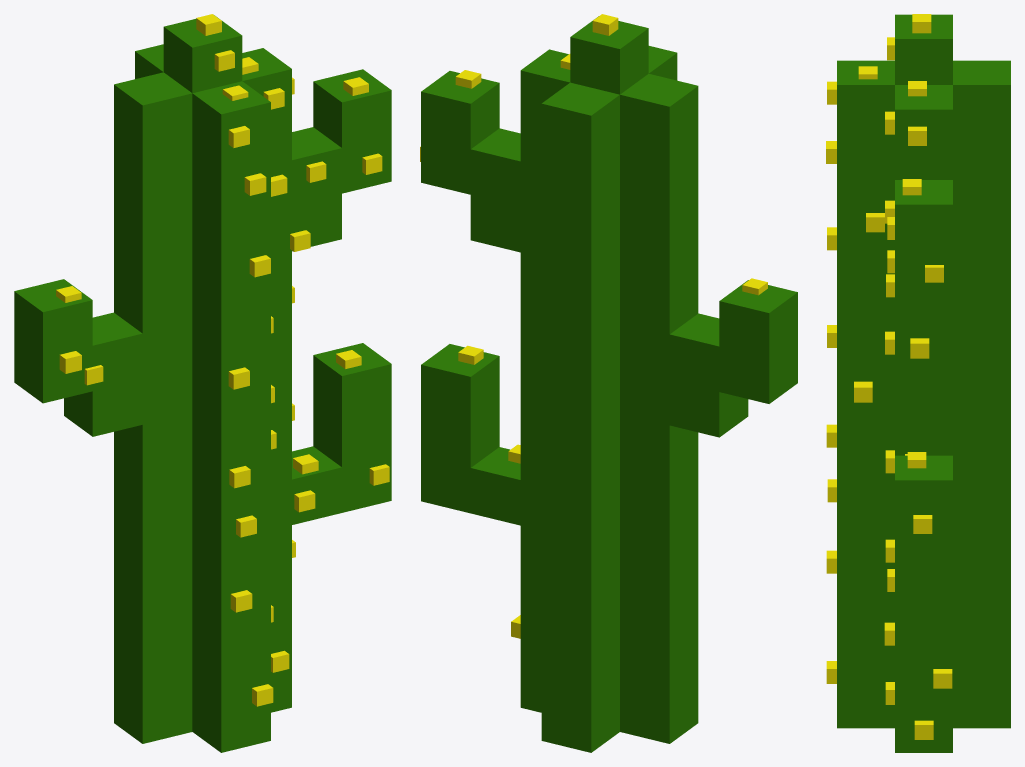
Rendered from cactus_2.fbx.
The picture shows the model from 3 angles, left to right: view 1: azimuth 30°, elevation 25°; view 2: azimuth 150°, elevation 25°; view 3: azimuth 270°, elevation 25°; orthographic projection.
Parts seen in each view (by area): view 1: Torus.006; view 2: Torus.006; view 3: Torus.006.
Boxes of the visible parts, box(x1,y1,x2,y2) form: Torus.006: box(14, 14, 391, 752); Torus.006: box(420, 14, 797, 752); Torus.006: box(826, 14, 1010, 752).
Size of the model in its own units: 398 by 741 by 177.
